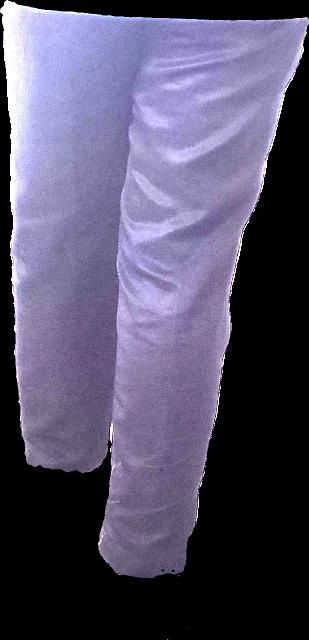blackpants: (0, 1, 308, 578)
